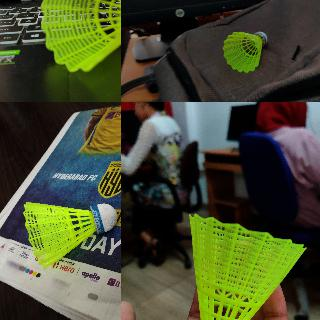shuttlecock: (189, 213, 307, 319), (23, 202, 117, 268), (40, 0, 120, 71), (223, 32, 267, 72)
